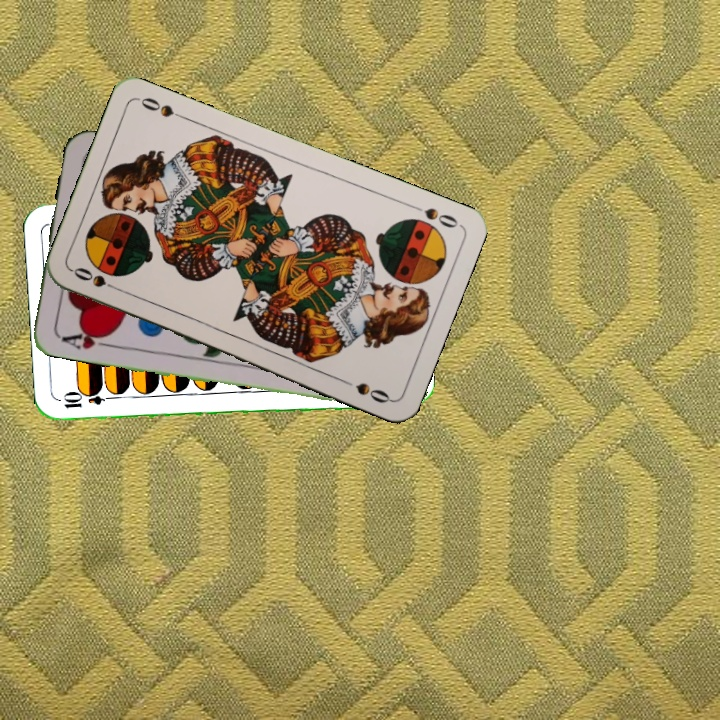E10: (59, 390, 118, 411)
HA: (55, 325, 115, 352)
SO: (69, 263, 125, 295), (406, 200, 461, 231)
